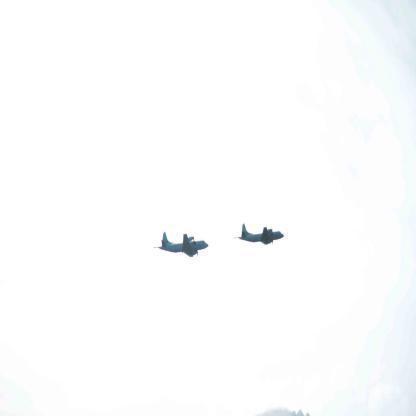aircraft: (153, 232, 208, 258), (234, 224, 285, 245)
